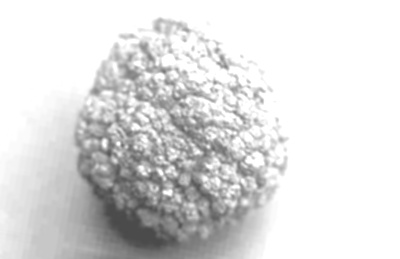halobolite: (45, 0, 316, 259)
